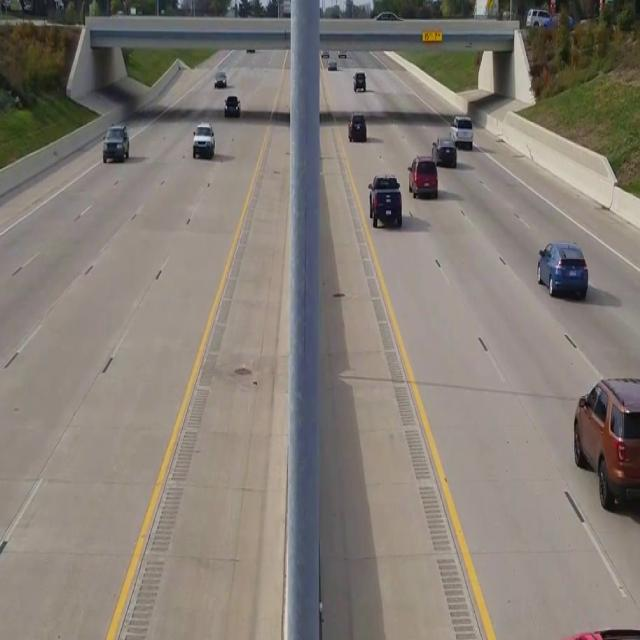car: (573, 375, 640, 512), (536, 240, 588, 300), (368, 174, 401, 228), (408, 156, 438, 198), (102, 124, 129, 162), (192, 122, 215, 159), (349, 113, 366, 142), (224, 95, 240, 117)
